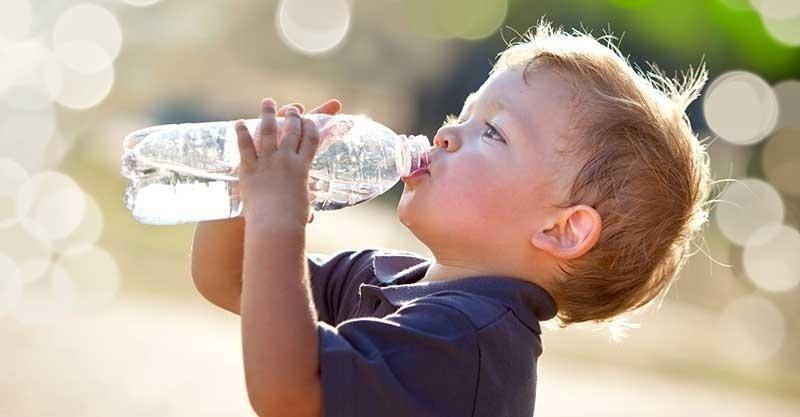bottle-plastic: (108, 98, 441, 223)
